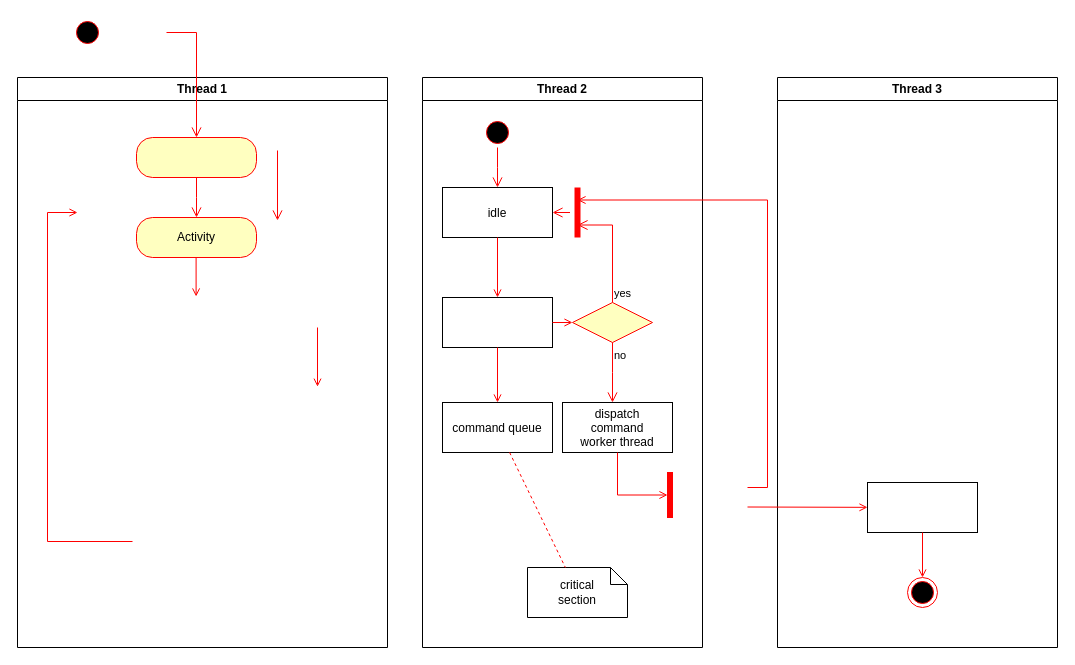
Some shapes in this 1075 by 665 pixel diagram are drawn without their labels. The centre of each missing label's shape, as x and y in pixels:
check for new commands: point 497,322
process command: point 922,507
Pulsar Botón inicio de sesión: point 196,157
queue empty: point 612,322
